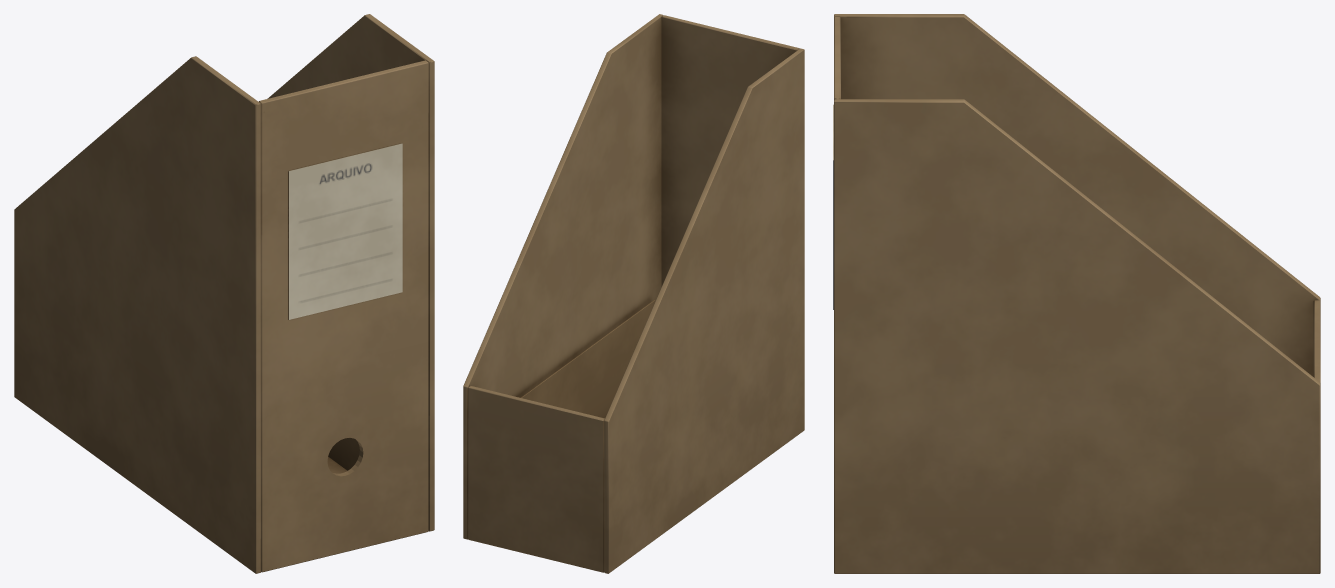
The model's file is caixa_arquivo_sujo_realista.glb.
3 renders of one model, left to right at view 1: azimuth 30°, elevation 25°; view 2: azimuth 150°, elevation 25°; view 3: azimuth 270°, elevation 25°, orthographic. The views are drawn at different scales.
Visible parts, largest first — view 1: Caixa_arquivo; view 2: Caixa_arquivo; view 3: Caixa_arquivo.
Part boxes in pixels (x1,y1,x2,y2): Caixa_arquivo: [14, 14, 434, 573]; Caixa_arquivo: [463, 14, 804, 573]; Caixa_arquivo: [833, 14, 1320, 573].
Bounding box in the file's own units: 0.12 × 0.3 × 0.2803.
1 material, 1 textured.
